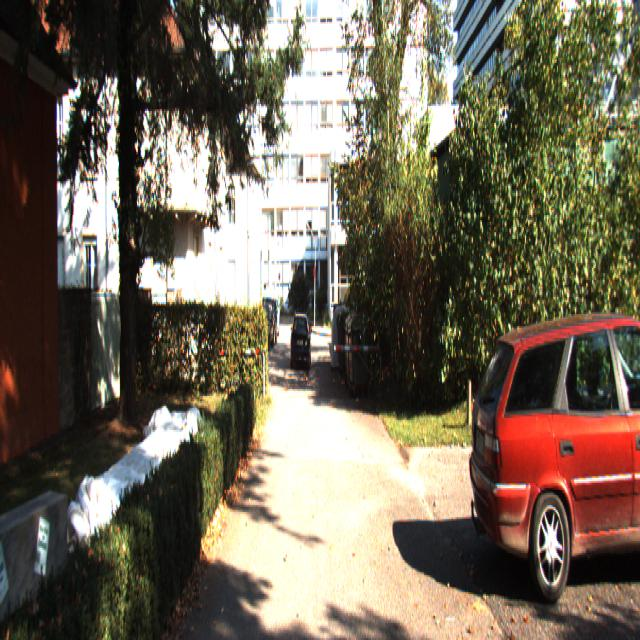Car: (468, 299, 640, 606), (291, 312, 311, 371), (254, 304, 274, 352)
